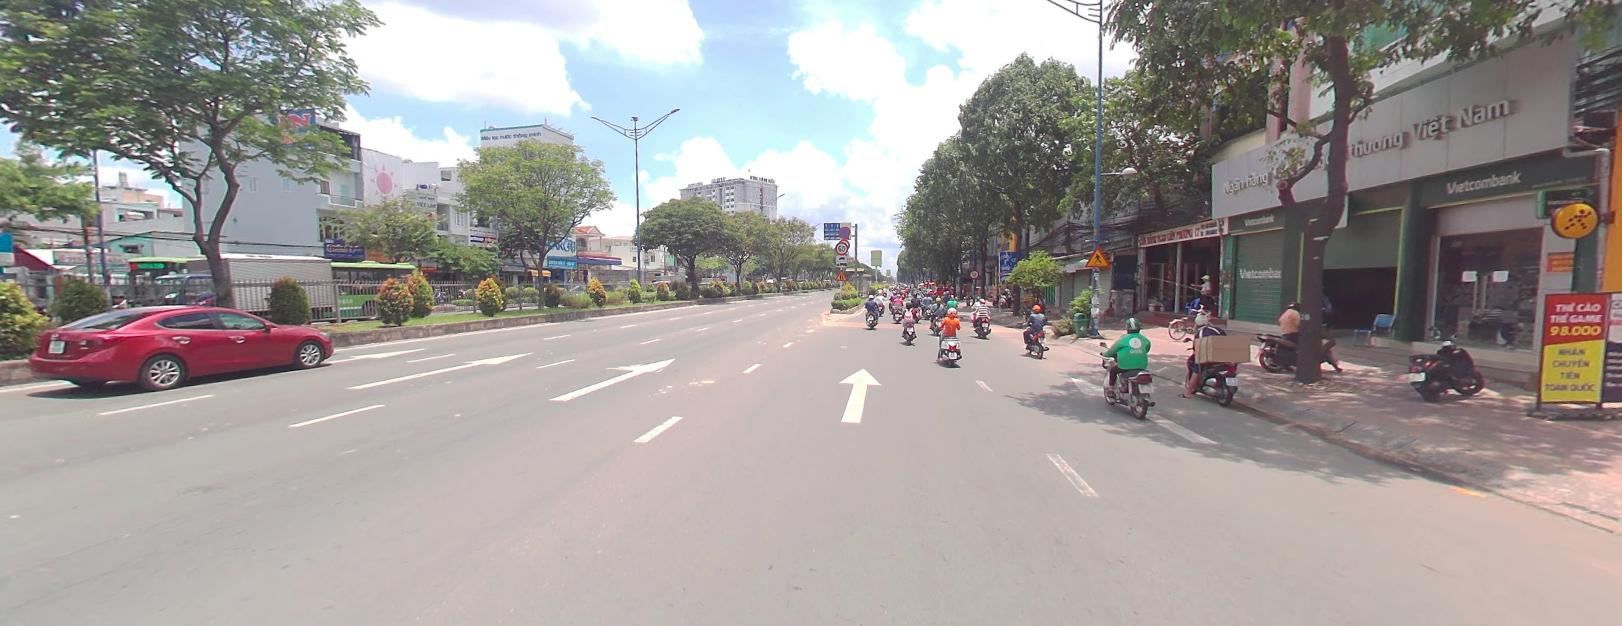Cam dung va do: (838, 225, 850, 237)
Gioi han toc do: (835, 240, 847, 252), (969, 268, 978, 277)
Nguy hiem: (1085, 246, 1109, 265), (834, 268, 847, 278)
